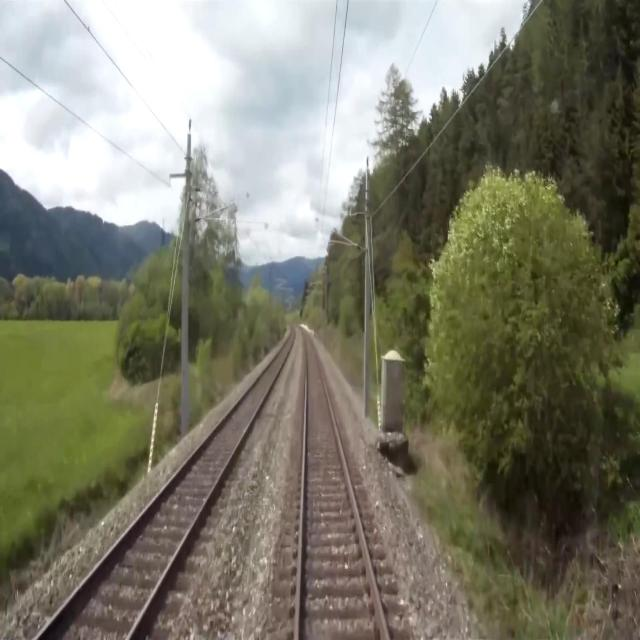rail-track: (299, 330, 385, 639)
